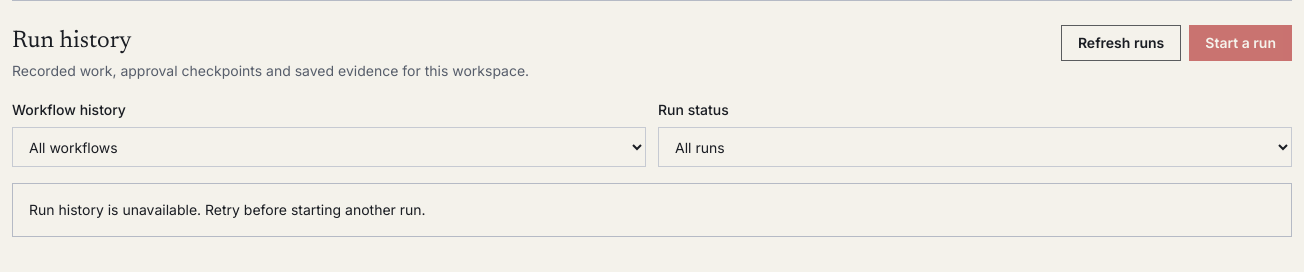
Test: workflow run history and start › separates unavailable history from an empty history and enables retry
Expected: the message shows "Run history is unavailable", [29,201,426,218]
Expected: the button "Start a run" is disabled, [1189,25,1292,61]
Step 1. Click the button "Refresh runs" → (1121, 43), box [1061,25,1181,61]
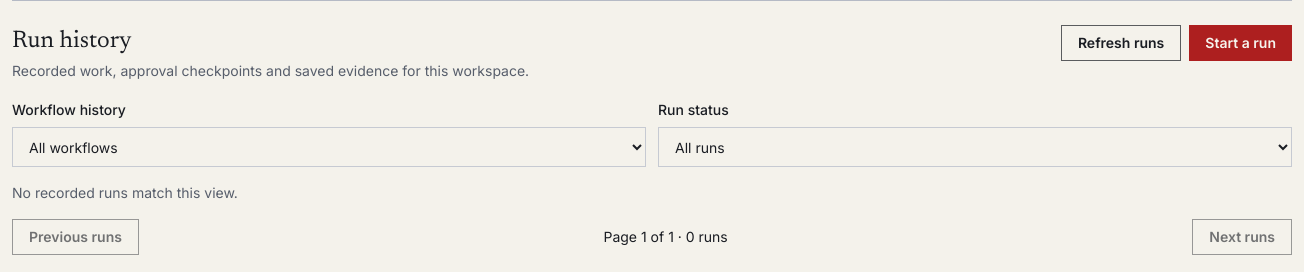
Expected: the text "No recorded runs match this view." is shown, [12,184,238,201]
Expected: the button "Start a run" is enabled, [1189,25,1292,61]
